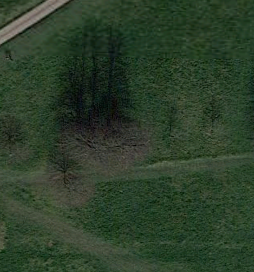tree: (53, 106, 158, 179), (37, 164, 96, 214)
